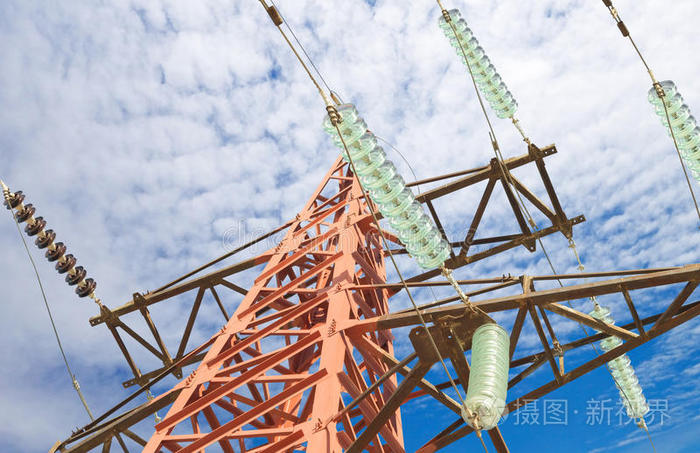insulator: (324, 107, 448, 267), (5, 191, 97, 298), (442, 10, 521, 117), (593, 305, 648, 417), (462, 324, 510, 430), (649, 79, 700, 173)
